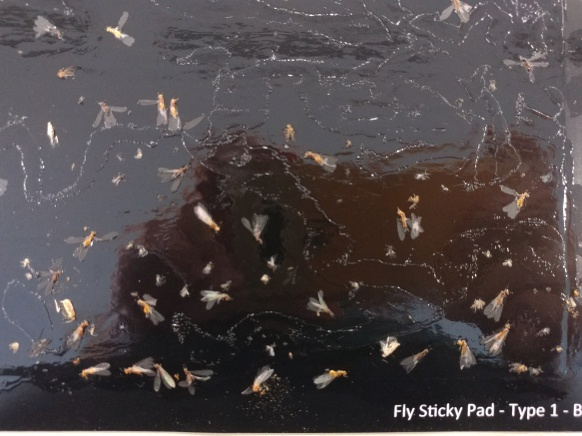flying termite: (64, 224, 118, 261), (168, 89, 205, 138), (238, 364, 281, 402), (137, 87, 168, 131), (104, 12, 139, 50), (308, 364, 350, 395), (90, 98, 129, 131), (482, 279, 512, 321), (189, 200, 224, 235), (130, 294, 167, 327), (499, 180, 530, 219), (480, 321, 514, 356), (179, 362, 214, 395), (240, 210, 271, 247), (448, 335, 480, 369), (400, 343, 431, 377), (304, 148, 339, 177), (197, 288, 236, 311), (122, 353, 155, 379), (80, 358, 112, 382)
